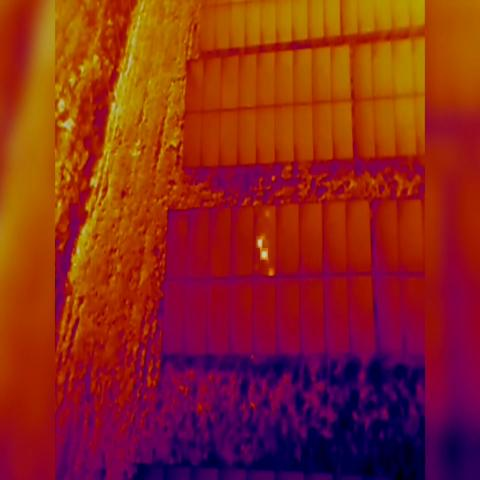fault: (260, 248, 268, 260), (256, 236, 263, 248), (268, 268, 274, 278)
